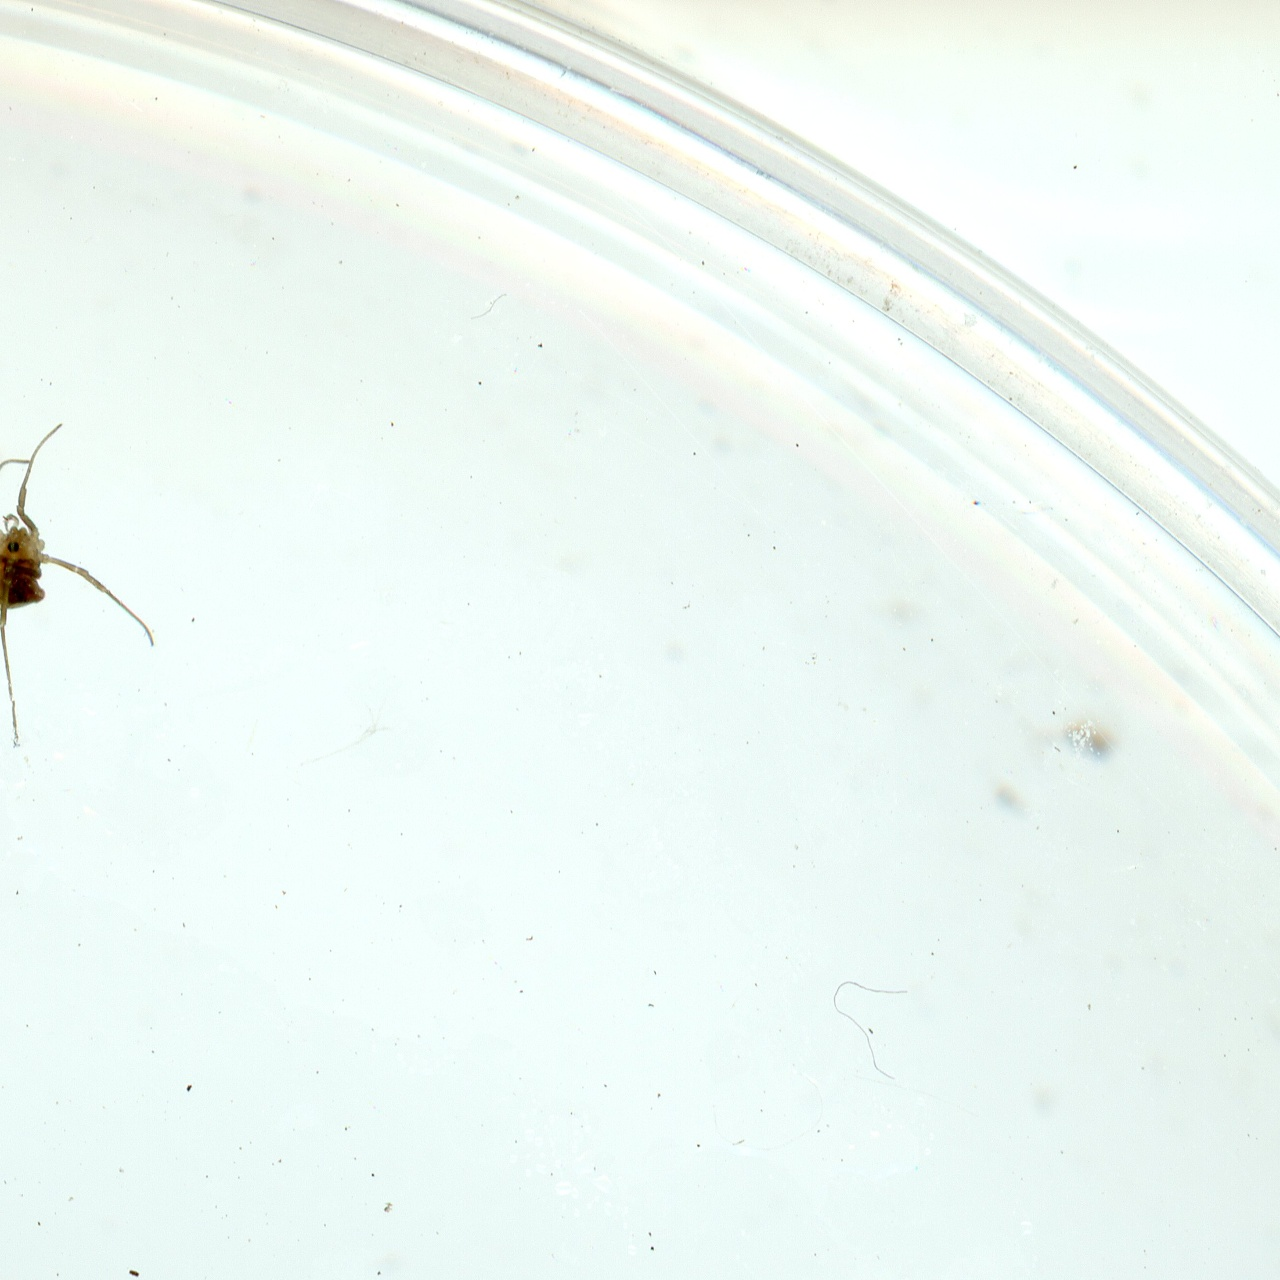arthropod: (0, 418, 162, 775)
